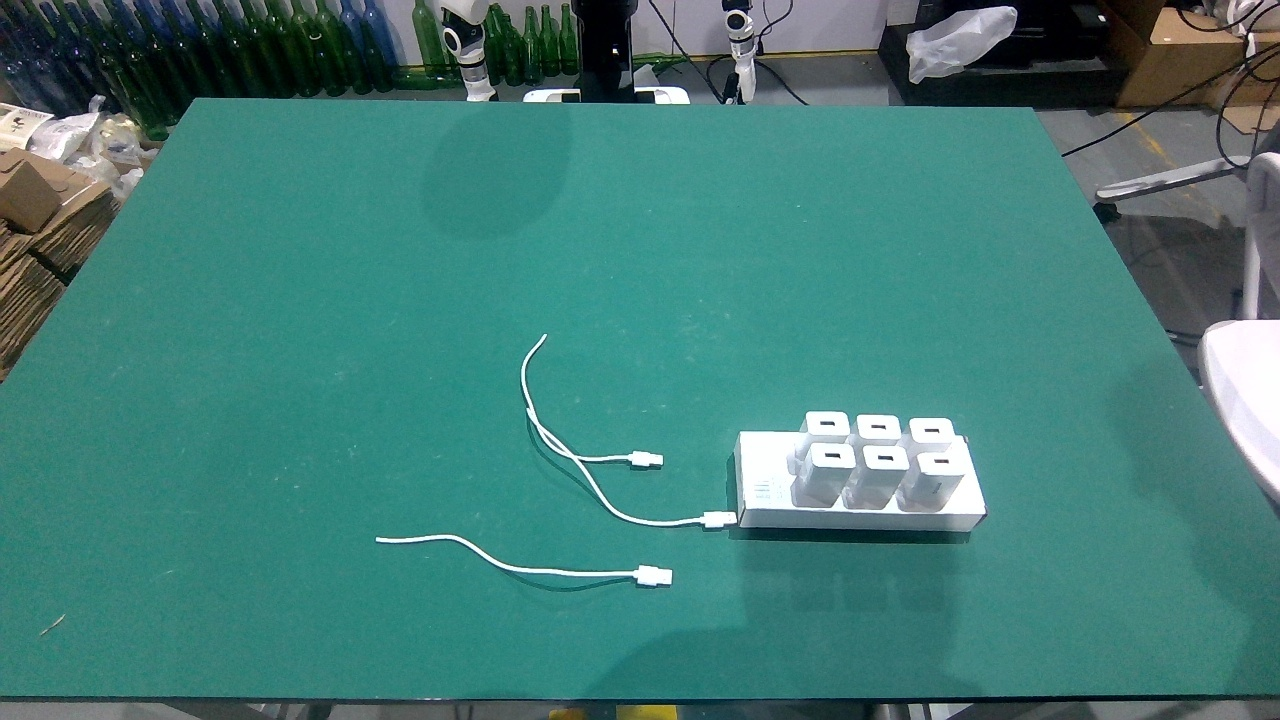usb_a_port: (816, 419, 844, 430), (822, 449, 844, 461), (921, 425, 944, 436), (868, 423, 892, 433), (930, 456, 954, 466), (876, 453, 897, 464)
